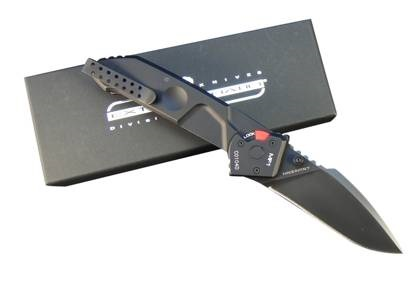knife: (253, 144, 406, 257)
